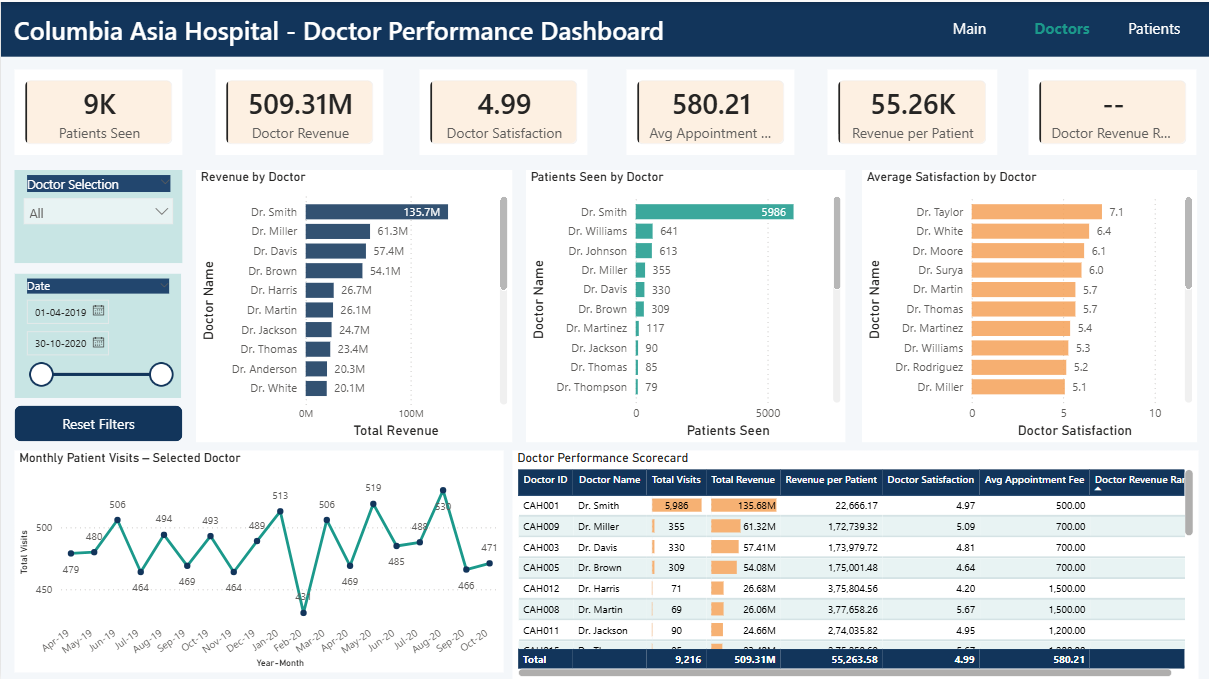

What the dashboard file says about the page in this screenshot:
{"tool":"powerbi","page":{"name":"Doctors","canvas":[1280,720],"ordinal":1},"visuals":[{"type":"cardVisual","fields":{"Data":["_Measures.Total Visits"]},"box":[14.3,71.6,178.1,90.7],"z":0},{"type":"cardVisual","fields":{"Data":["_Measures.Doctor Revenue"]},"box":[227.5,71.6,178.1,90.7],"z":1000},{"type":"cardVisual","fields":{"Data":["_Measures.Avg Appointment Fee"]},"box":[663.3,71.6,178.1,90.7],"z":2000},{"type":"cardVisual","fields":{"Data":["_Measures.Doctor Satisfaction"]},"box":[443.8,71.6,178.1,90.7],"z":3000},{"type":"shape","box":[0,0,1463.4,58],"z":4000},{"type":"textbox","box":[0,0,1849.9,58.9],"z":5000},{"type":"slicer","fields":{"Values":["Dim_Date.Date"]},"box":[15,288.3,176.7,131.7],"z":6000},{"type":"actionButton","title":"Reset Filters","box":[14.3,427.9,178.1,38.2],"z":7000},{"type":"slicer","title":"Select Doctor","fields":{"Values":["Dim_Doctor.Doctor Label"]},"box":[14.3,178.1,178.1,98.6],"z":8000},{"type":"cardVisual","fields":{"Data":["_Measures.Revenue per Patient"]},"box":[876.4,71.6,179.7,90.7],"z":9000},{"type":"cardVisual","fields":{"Data":["_Measures.Doctor Revenue Rank"]},"box":[1089.6,71.6,178.1,90.7],"z":10000},{"type":"clusteredBarChart","title":"Revenue by Doctor","fields":{"Category":["Dim_Doctor.Doctor Name"],"Y":["_Measures.Total Revenue"]},"box":[206.7,178.3,335,288.3],"z":11000},{"type":"clusteredBarChart","title":"Patients Seen by Doctor","fields":{"Category":["Dim_Doctor.Doctor Name"],"Y":["_Measures.Patients Seen"]},"box":[556.7,178.3,338.3,288.3],"z":12000},{"type":"clusteredBarChart","title":"Average Satisfaction by Doctor","fields":{"Category":["Dim_Doctor.Doctor Name"],"Y":["_Measures.Doctor Satisfaction"]},"box":[1322,257,97,261],"z":13000},{"type":"lineChart","title":"Monthly Patient Visits – Selected Doctor","fields":{"Category":["Dim_Date.Year-Month"],"Y":["_Measures.Total Visits"]},"box":[15,475,518.3,235],"z":14000},{"type":"tableEx","title":"Doctor Performance Scorecard","fields":{"Values":["Dim_Doctor.Doctor ID","Dim_Doctor.Doctor Name","_Measures.Total Visits","_Measures.Total Revenue","_Measures.Revenue per Patient","_Measures.Doctor Satisfaction","_Measures.Avg Appointment Fee","_Measures.Doctor Revenue Rank"]},"box":[541.7,475,726.7,245],"z":15000},{"type":"pageNavigator","box":[983.3,10,285,36.7],"z":16000},{"type":"clusteredBarChart","title":"Average Satisfaction by Doctor","fields":{"Category":["Dim_Doctor.Doctor Name"],"Y":["_Measures.Doctor Satisfaction"]},"box":[913.3,178.3,355,288.3],"z":17000}]}

Visuals, with their boxes in screenshot pixels (x1, y1, x2, y2), scaled from the page's 1280x720 canvas onto the 1209x679 screenshot:
cardVisual - _Measures.Total Visits: (14,68,182,153)
cardVisual - _Measures.Doctor Revenue: (215,68,383,153)
cardVisual - _Measures.Avg Appointment Fee: (627,68,795,153)
cardVisual - _Measures.Doctor Satisfaction: (419,68,587,153)
shape: (0,0,1208,55)
textbox: (0,0,1208,56)
slicer - Dim_Date.Date: (14,272,181,396)
"Reset Filters" actionButton: (14,404,182,440)
"Select Doctor" slicer: (14,168,182,261)
cardVisual - _Measures.Revenue per Patient: (828,68,998,153)
cardVisual - _Measures.Doctor Revenue Rank: (1029,68,1197,153)
"Revenue by Doctor" clusteredBarChart: (195,168,512,440)
"Patients Seen by Doctor" clusteredBarChart: (526,168,845,440)
"Monthly Patient Visits – Selected Doctor" lineChart: (14,448,504,670)
"Doctor Performance Scorecard" tableEx: (512,448,1198,678)
pageNavigator: (929,9,1198,44)
"Average Satisfaction by Doctor" clusteredBarChart: (863,168,1198,440)
